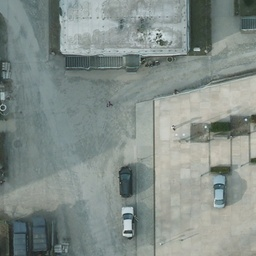car: (211, 173, 226, 207), (120, 206, 135, 237), (31, 220, 46, 251), (12, 223, 27, 254), (118, 164, 132, 197)
